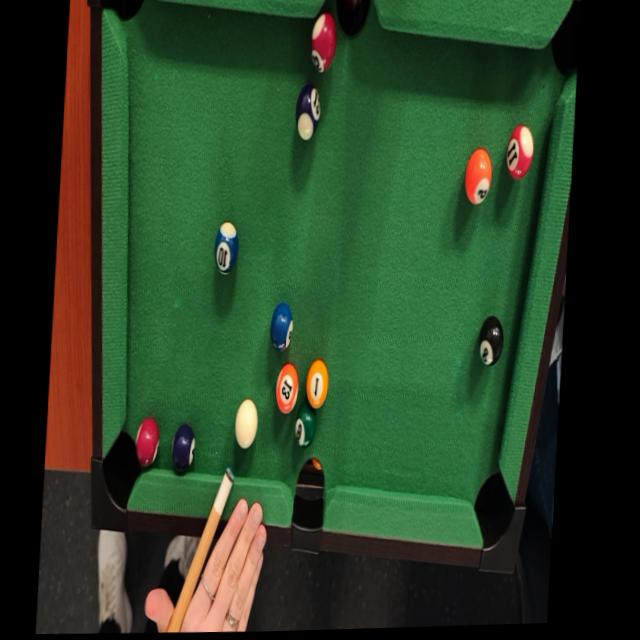cue ball: (232, 391, 261, 450)
other: (306, 7, 340, 75), (167, 413, 198, 482), (292, 78, 323, 147), (461, 145, 494, 207), (504, 118, 535, 180), (265, 296, 298, 354), (290, 391, 321, 452), (211, 215, 242, 275), (133, 410, 162, 472), (303, 353, 334, 410), (273, 354, 301, 416), (476, 311, 504, 366)
